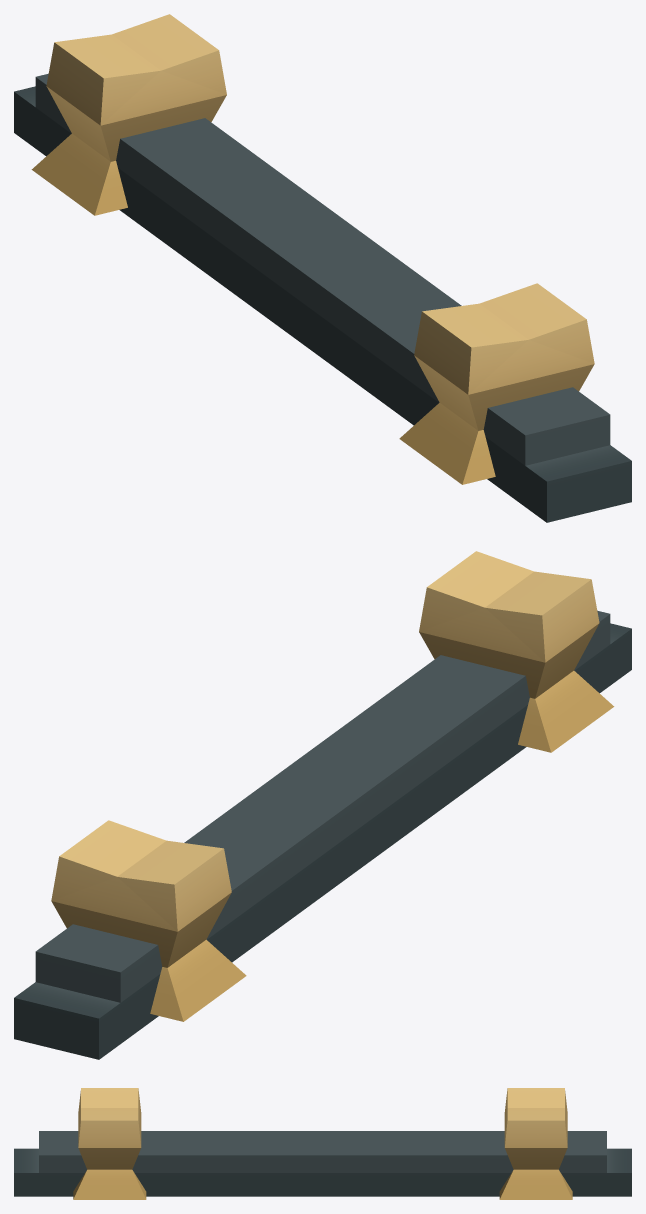
The model's file is Shrine_Roof_Beam.fbx.
3 views of the same model, one above another, from view 1: azimuth 30°, elevation 25°; view 2: azimuth 150°, elevation 25°; view 3: azimuth 270°, elevation 25° (orthographic). The views are drawn at different scales.
Visible parts, largest first — view 1: Shrine_Roof_Beam; view 2: Shrine_Roof_Beam; view 3: Shrine_Roof_Beam.
Part boxes in pixels (x1=…): Shrine_Roof_Beam: x1=14, y1=14, x2=631, y2=522; Shrine_Roof_Beam: x1=14, y1=551, x2=631, y2=1059; Shrine_Roof_Beam: x1=14, y1=1088, x2=631, y2=1199.
Size of the model in its own units: 0.8591 by 0.7652 by 5.38.
Materials: 1 (1 with a texture image).
